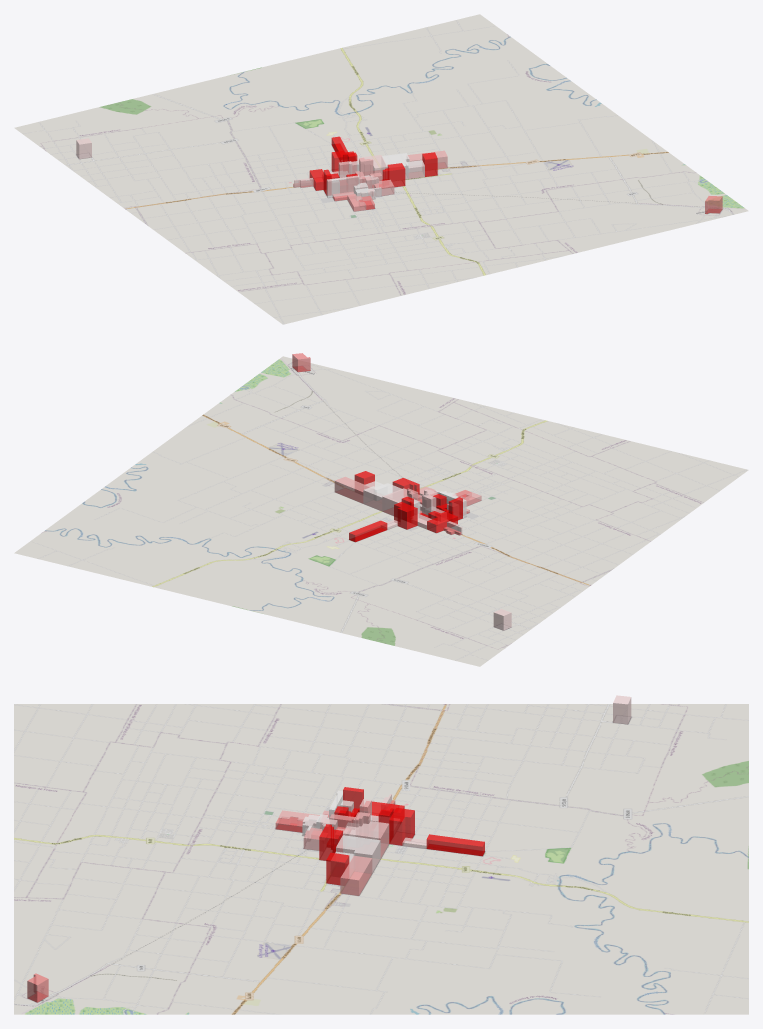
File: esperanza.gltf
The picture shows the model from 3 angles, top to bottom: view 1: azimuth 30°, elevation 25°; view 2: azimuth 150°, elevation 25°; view 3: azimuth 270°, elevation 25°; orthographic projection. The views are drawn at different scales.
Parts seen in each view (by area): view 1: GSI Elevation Tile, radios_urbanos; view 2: GSI Elevation Tile, radios_urbanos; view 3: GSI Elevation Tile, radios_urbanos.
Boxes of the visible parts, x1=… form: GSI Elevation Tile: x1=14, y1=14, x2=748, y2=324; radios_urbanos: x1=76, y1=136, x2=722, y2=213; GSI Elevation Tile: x1=14, y1=356, x2=748, y2=666; radios_urbanos: x1=292, y1=353, x2=511, y2=630; GSI Elevation Tile: x1=14, y1=704, x2=748, y2=1014; radios_urbanos: x1=27, y1=695, x2=631, y2=1002.
Size of the model in its own units: 0.2295 by 0.00978 by 0.2295.
Materials: 6 (1 with a texture image).
